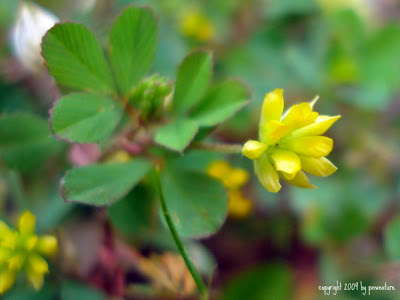clover: (36, 8, 340, 223)
